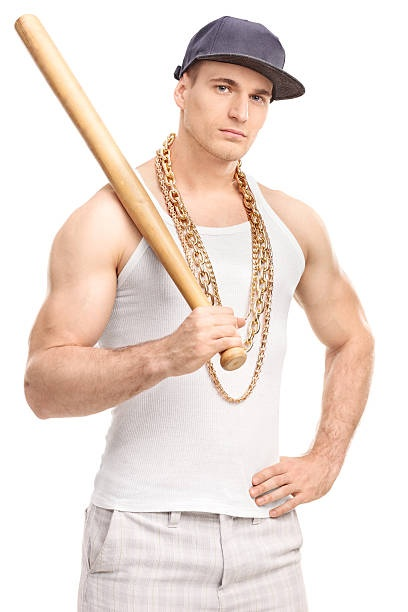bita: (11, 4, 241, 362)
